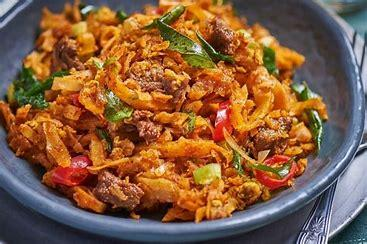Kottu: (12, 11, 354, 210)
